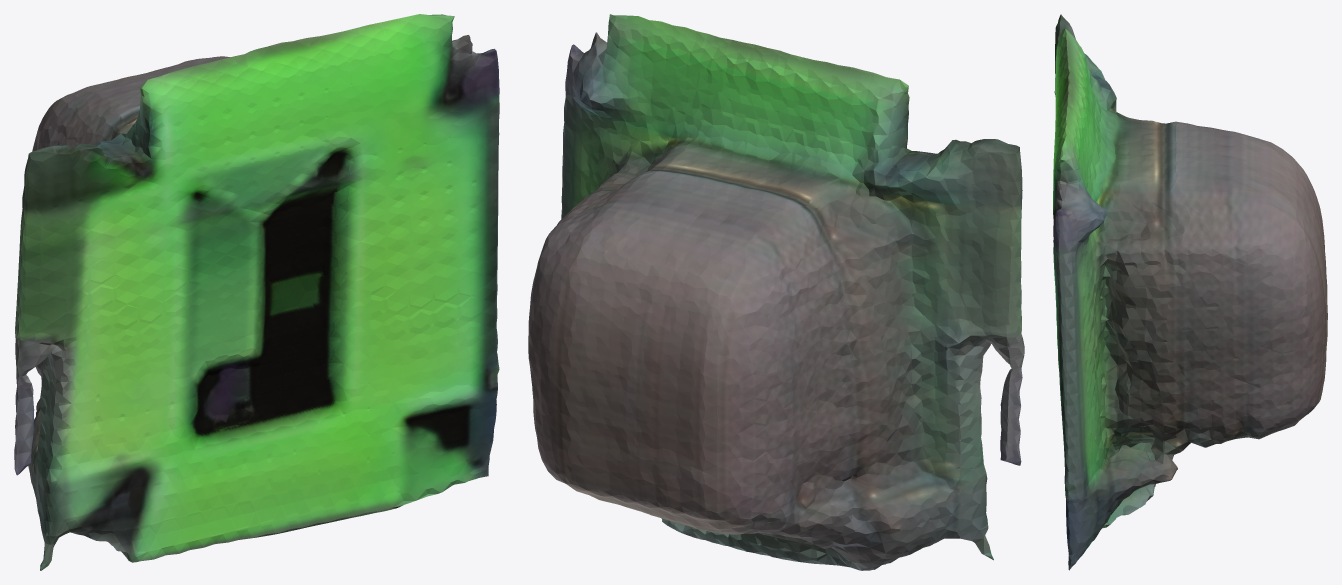
Rendered from 3DBullet0.glb.
3 views of the same model, side by side, from view 1: azimuth 30°, elevation 25°; view 2: azimuth 150°, elevation 25°; view 3: azimuth 270°, elevation 25° (orthographic). The views are drawn at different scales.
Bounding box in the file's own units: 0.8545 × 0.8359 × 0.5041.
1 material, 1 textured.
